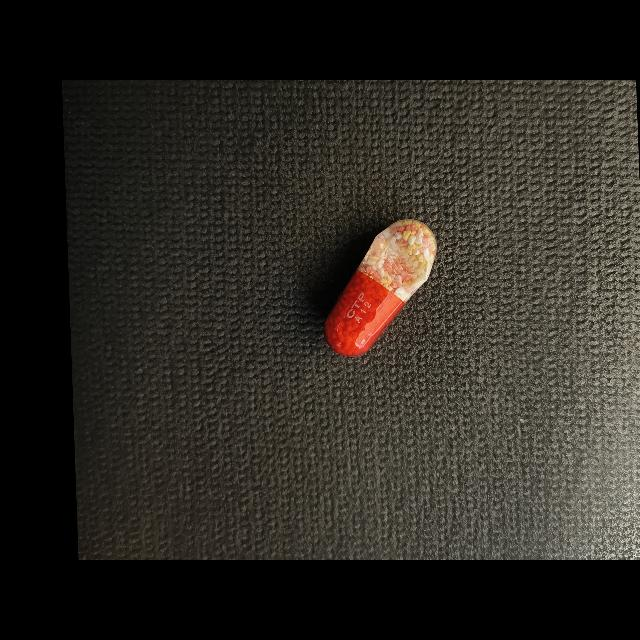Defective Capsule: (325, 219, 437, 357)
